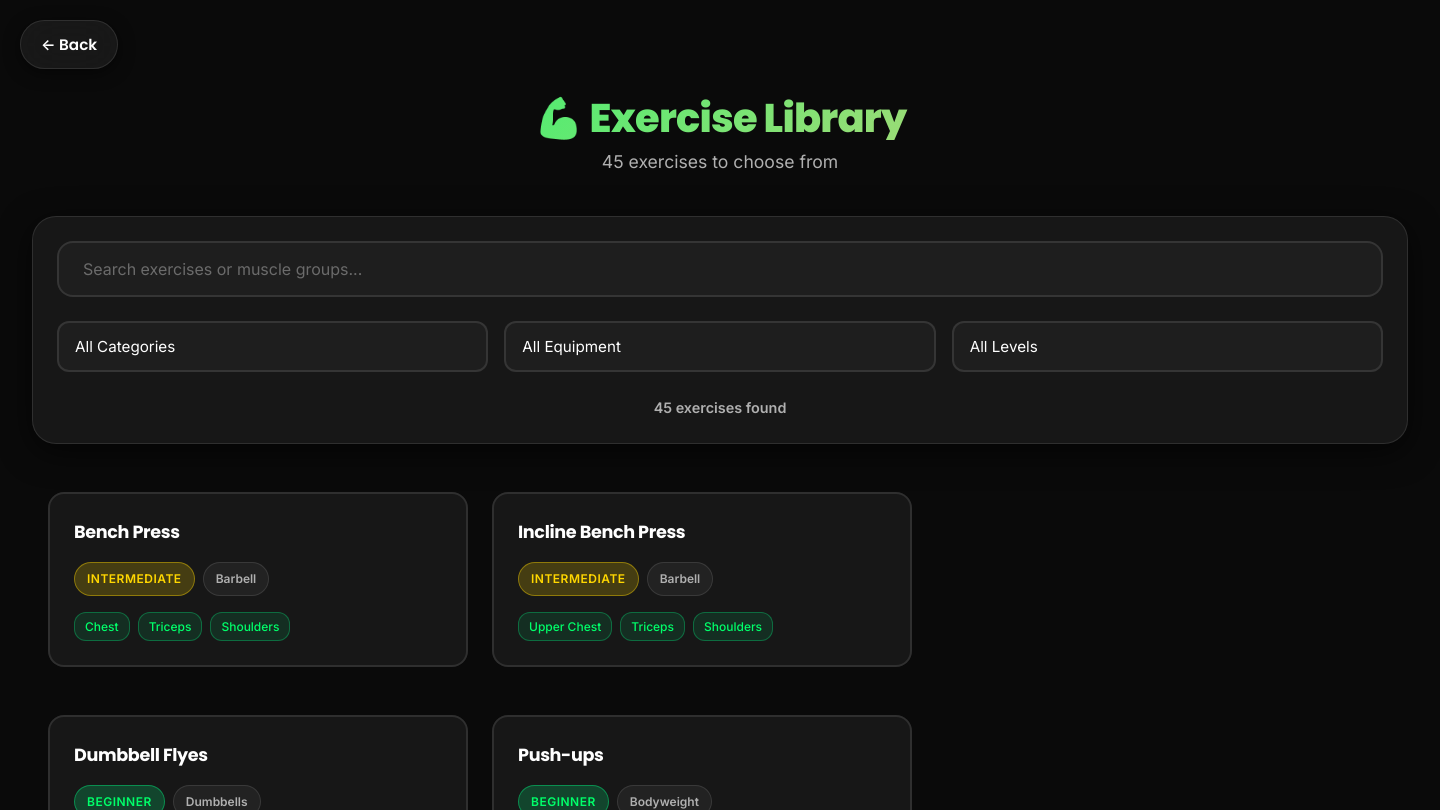
Test case: ExerciseLibrary › Filter Functionality › should filter by equipment
Select "Bodyweight" in the 2nd dropdown at (720, 347), box [504, 321, 936, 372]
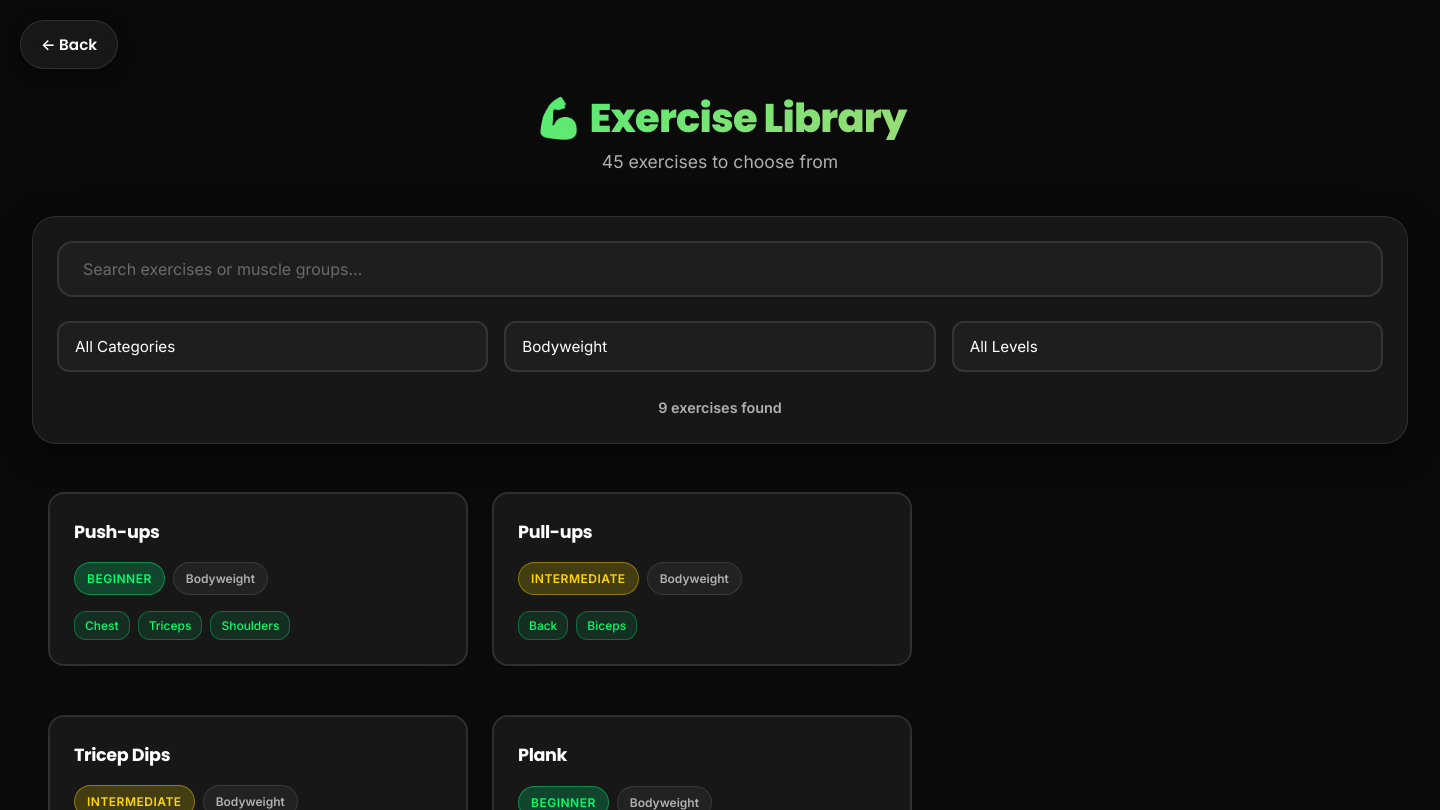
Check: the heading "Push-ups" is shown, box [74, 520, 160, 544]
Check: the heading "Pull-ups" is shown, box [518, 520, 592, 544]
Check: the heading "Bench Press" is gone
